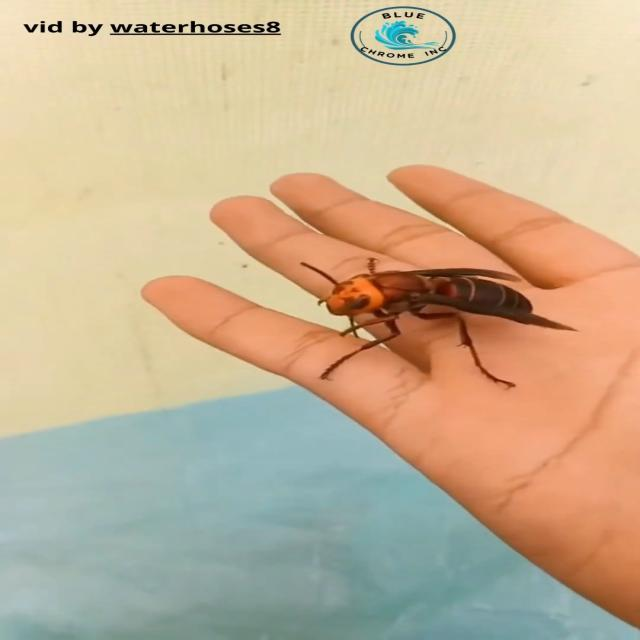Hornets: (296, 256, 584, 388)
